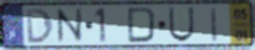1: (93, 7, 108, 45)
D: (126, 6, 158, 44), (24, 7, 55, 45)
I: (209, 5, 219, 44)
N: (54, 6, 86, 46)
U: (167, 6, 196, 43)
